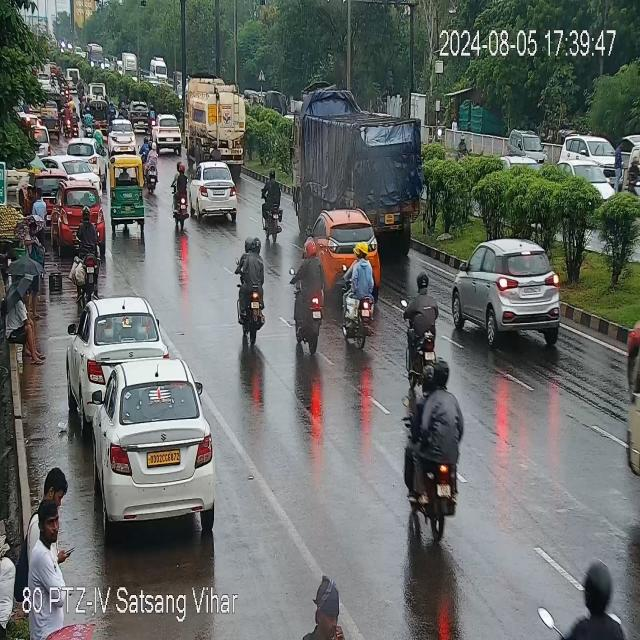2-wheelers: (405, 361, 463, 535), (557, 563, 632, 640), (235, 236, 272, 345), (288, 242, 324, 351), (340, 245, 378, 343), (407, 273, 440, 366), (74, 206, 104, 273), (262, 173, 286, 242), (170, 164, 190, 226), (142, 146, 160, 194)
auto: (109, 160, 151, 233)
car: (77, 358, 219, 532), (453, 240, 567, 343), (70, 297, 160, 399), (186, 164, 242, 220), (54, 188, 105, 245), (564, 132, 614, 179), (36, 156, 102, 191), (152, 118, 186, 152), (107, 125, 143, 155)
pedestrian: (291, 577, 354, 640), (29, 512, 73, 598), (6, 282, 46, 362), (12, 229, 44, 323), (41, 464, 71, 506), (30, 188, 50, 238)
truck: (282, 104, 434, 242), (184, 78, 260, 163), (620, 286, 640, 487)
